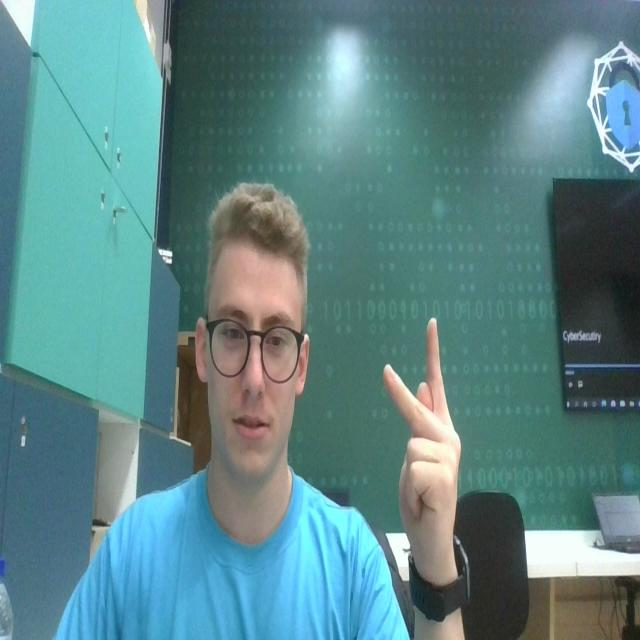K: (375, 307, 465, 551)
